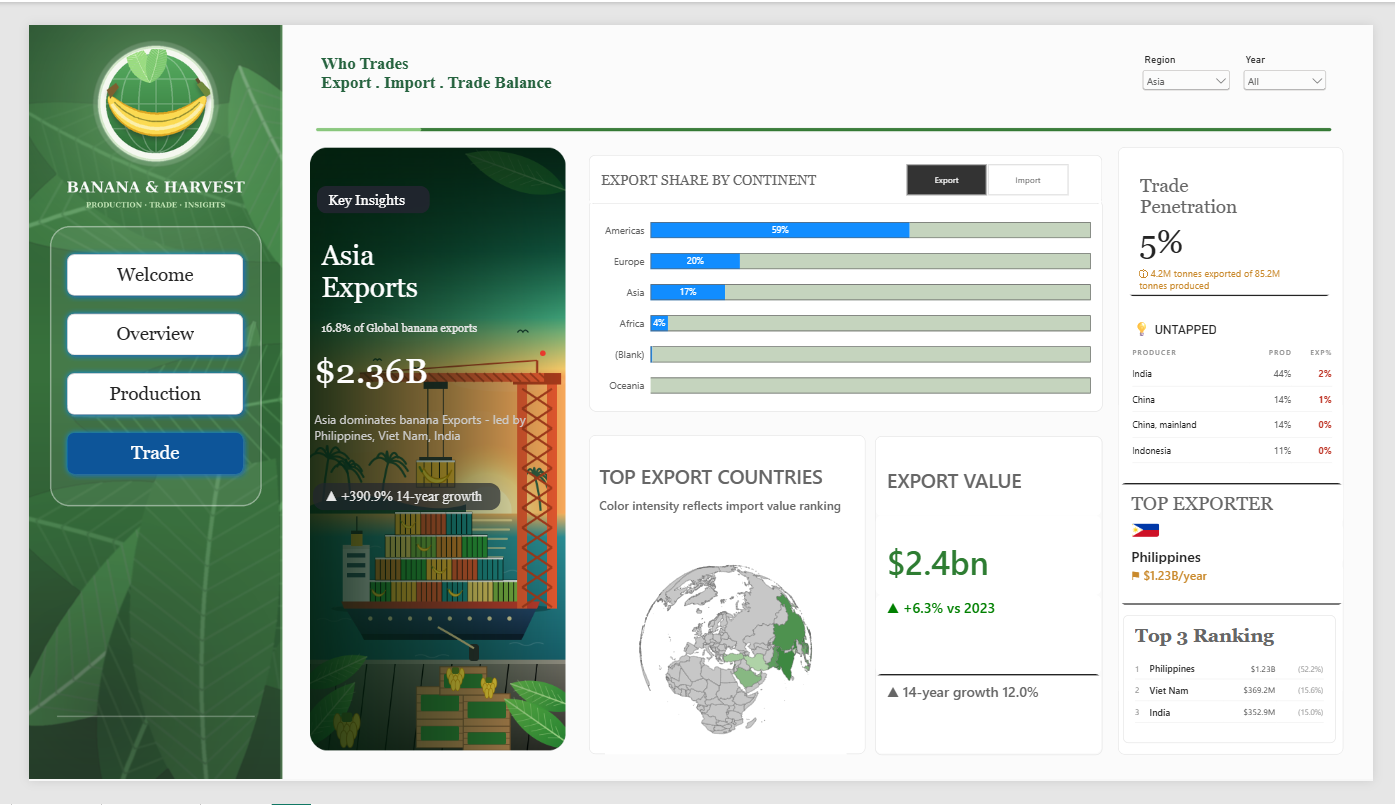

The dashboard page shown, as its layout file describes it:
{"tool":"powerbi","page":{"name":"Trade","canvas":[1920,1080],"ordinal":3},"visuals":[{"type":"group","id":"g1","title":"Group 1","box":[391.3,173.9,374.3,863.9],"z":0},{"type":"image","box":[400.9,173.9,364.6,863.9],"z":0,"group":"g1"},{"type":"cardVisual","fields":{"Data":["Page 3 measures.Chart Header"]},"box":[799.7,185.6,733.9,70],"z":0,"group":"g2"},{"type":"slicer","fields":{"Values":["Trade Selector.Metric"]},"box":[1232,196.4,270.7,48.5],"z":1000,"group":"g2"},{"type":"barChart","fields":{"Category":["country.region"],"Y":["Page 3 measures.Export or Import share of world","Page 3 measures.temp"]},"box":[799.9,249.1,733.9,304.3],"z":1000},{"type":"cardVisual","fields":{"Data":["Page 3 measures.Top exporter or importer value by region"]},"box":[391.3,432.7,239.8,120.6],"z":1000,"group":"g1"},{"type":"group","id":"g2","title":"Group 2","box":[799.7,185.6,734.2,71],"z":2000},{"type":"cardVisual","fields":{"Data":["Page 3 measures.Top exporter or importer by region"]},"box":[400.9,269.3,294.5,164.1],"z":2000,"group":"g1"},{"type":"cardVisual","fields":{"Data":["Page 3 measures.Top exporter or importer share by region"]},"box":[400.9,388.8,343.6,89.8],"z":3000,"group":"g1"},{"type":"shape","box":[799.7,586.1,395.3,456.3],"z":3000},{"type":"cardVisual","fields":{"Data":["Page 3 measures.Export Growth Label"]},"box":[405.9,654.4,268.8,39.6],"z":4000,"group":"g1"},{"type":"shapeMap","fields":{"Category":["country.alpha_3"],"Value":["Page 3 measures.Map Rank Score"]},"box":[822.6,744.8,344.9,297.6],"z":4000},{"type":"cardVisual","fields":{"Data":["Page 3 measures.Top 3 exporter or importer by region"]},"box":[391.3,508.5,340.8,129],"z":5000,"group":"g1"},{"type":"cardVisual","fields":{"Data":["Page 3 measures.Map Header","Page 3 measures.Map subheader"]},"box":[798.2,612,396.8,125.2],"z":5000},{"type":"cardVisual","fields":{"Data":["Page 3 measures.Key Insights"]},"box":[410.9,229.4,161.3,39.3],"z":6000,"group":"g1"},{"type":"cardVisual","fields":{"Data":["Page 3 measures.Import or export header","Page 3 measures.Map Value","Page 3 measures.import or export YoY Label","Page 3 measures.export or import cagr"]},"box":[1208.9,586.6,324.8,456.4],"z":6000},{"type":"shape","box":[1555.2,174.5,321.9,868.4],"z":7000},{"type":"textbox","box":[1586.6,214.6,164.5,77.3],"z":8000},{"type":"cardVisual","fields":{"Data":["Page 3 measures.Penetration %","Page 3 measures.Penetration Text"]},"box":[1569.5,281.8,290.4,107.3],"z":9000},{"type":"htmlContent443BE3AD55E043BF878BED274D3A6855","title":"💡 UNTAPPED","fields":{"content":["All Measures.Untapped HTML"]},"box":[1559.5,406.3,317.6,247.5],"z":10000},{"type":"cardVisual","fields":{"Data":["Page 3 measures.Top Flow Title","Page 3 measures.Top Flow Country","Page 3 measures.Top Flow Value Text"]},"box":[1558,653.8,319,174.5],"z":11000},{"type":"pageNavigator","box":[45.4,319,269.1,334.1],"z":12000},{"type":"htmlContent443BE3AD55E043BF878BED274D3A6855","title":"Top 3 Ranking","fields":{"content":["Page 3 measures.Top 3 Ranking HTML"]},"box":[1563.4,843,304.3,183.1],"z":13000},{"type":"slicer","fields":{"Values":["year.Year"]},"box":[1730.3,40.9,128.3,69.6],"z":14000},{"type":"slicer","fields":{"Values":["country.region"]},"box":[1585.7,40.9,135.1,71],"z":15000},{"type":"textbox","box":[417.6,40.9,337.1,80.5],"z":16000}]}

Visuals, with their boxes in screenshot pixels (x1, y1, x2, y2), scaled from the page's 1920x1080 canvas onto the 1395x805 screenshot:
"Group 1" group: left=284, top=130, right=556, bottom=774
image: left=291, top=130, right=556, bottom=774
cardVisual - Page 3 measures.Chart Header: left=581, top=138, right=1114, bottom=191
slicer - Trade Selector.Metric: left=895, top=146, right=1092, bottom=183
barChart - country.region x Page 3 measures.Export or Import share of world: left=581, top=186, right=1114, bottom=412
cardVisual - Page 3 measures.Top exporter or importer value by region: left=284, top=323, right=459, bottom=412
"Group 2" group: left=581, top=138, right=1114, bottom=191
cardVisual - Page 3 measures.Top exporter or importer by region: left=291, top=201, right=505, bottom=323
cardVisual - Page 3 measures.Top exporter or importer share by region: left=291, top=290, right=541, bottom=357
shape: left=581, top=437, right=868, bottom=777
cardVisual - Page 3 measures.Export Growth Label: left=295, top=488, right=490, bottom=517
shapeMap - country.alpha_3 x Page 3 measures.Map Rank Score: left=598, top=555, right=848, bottom=777
cardVisual - Page 3 measures.Top 3 exporter or importer by region: left=284, top=379, right=532, bottom=475
cardVisual - Page 3 measures.Map Header x Page 3 measures.Map subheader: left=580, top=456, right=868, bottom=549
cardVisual - Page 3 measures.Key Insights: left=299, top=171, right=416, bottom=200
cardVisual - Page 3 measures.Import or export header x Page 3 measures.Map Value: left=878, top=437, right=1114, bottom=777
shape: left=1130, top=130, right=1364, bottom=777
textbox: left=1153, top=160, right=1272, bottom=218
cardVisual - Page 3 measures.Penetration % x Page 3 measures.Penetration Text: left=1140, top=210, right=1351, bottom=290
"💡 UNTAPPED" htmlContent443BE3AD55E043BF878BED274D3A6855: left=1133, top=303, right=1364, bottom=487
cardVisual - Page 3 measures.Top Flow Title x Page 3 measures.Top Flow Country: left=1132, top=487, right=1364, bottom=617
pageNavigator: left=33, top=238, right=229, bottom=487
"Top 3 Ranking" htmlContent443BE3AD55E043BF878BED274D3A6855: left=1136, top=628, right=1357, bottom=765
slicer - year.Year: left=1257, top=30, right=1350, bottom=82
slicer - country.region: left=1152, top=30, right=1250, bottom=83
textbox: left=303, top=30, right=548, bottom=90
